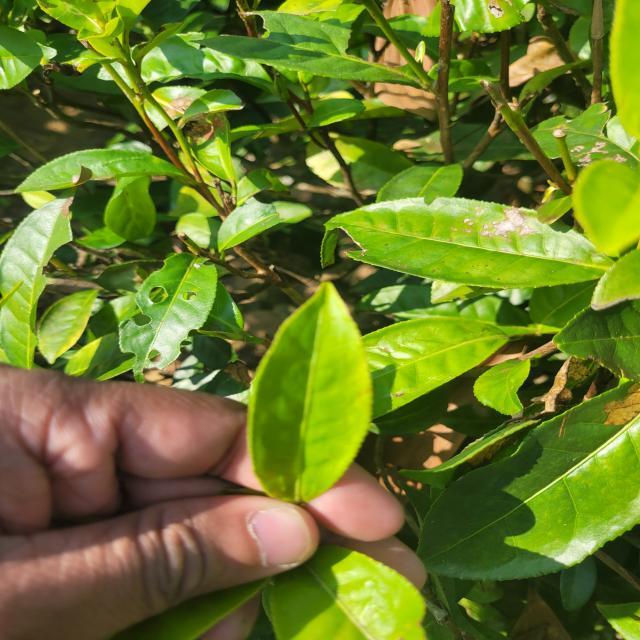Catagory A(1-2 days): (228, 278, 394, 510)
